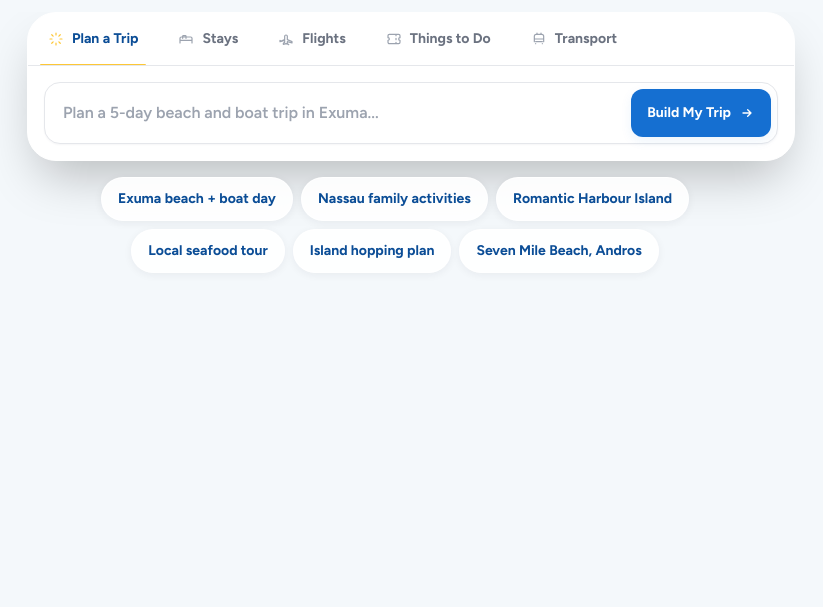
Test: MarketingHeroSearch › uses custom marketplace listboxes for public stays search dropdowns
Click the tab "Stays" at [208, 39], box [158,13,258,65]
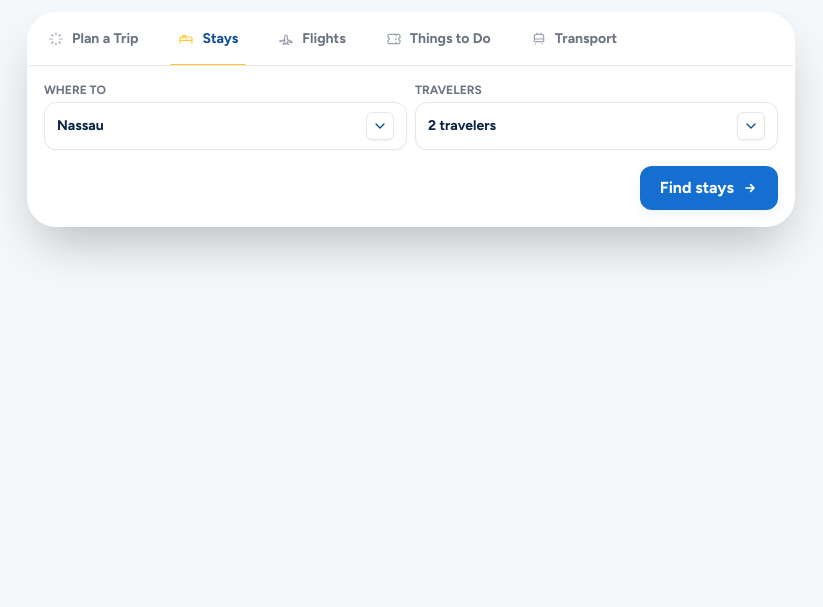
Click the button with aria-label "Open Where to menu" at [80, 126], box [44,102,407,150]
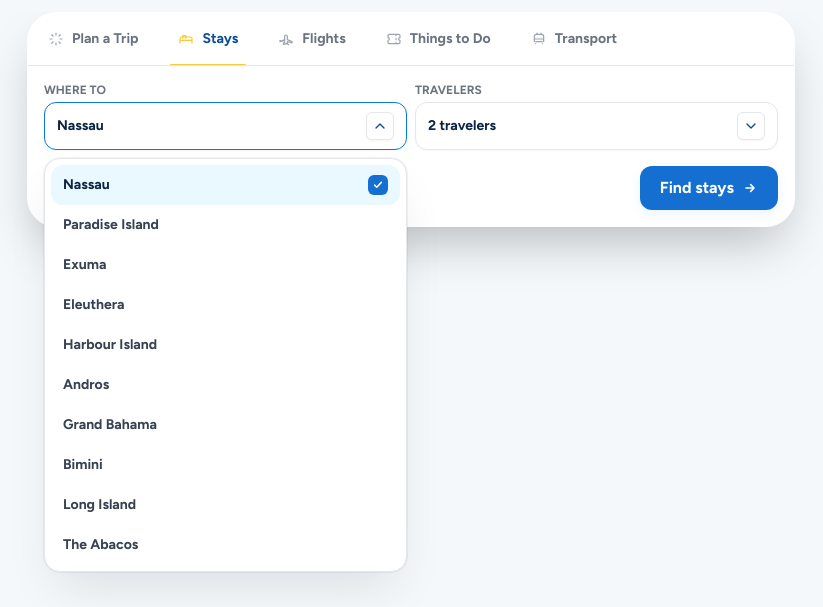
Press the mouse on the option "Exuma" at [85, 264], box [51,245,400,285]
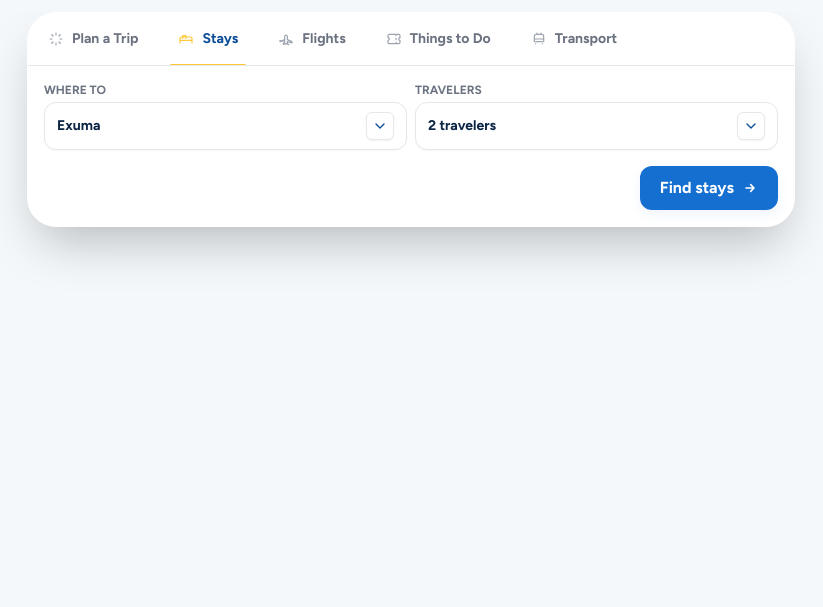
Now the label labelled "Where to" holds "exuma", box [44,82,407,150]
Now the list is gone
Now the button with aria-label "Open Where to menu" reads "Exuma", box [44,102,407,150]
